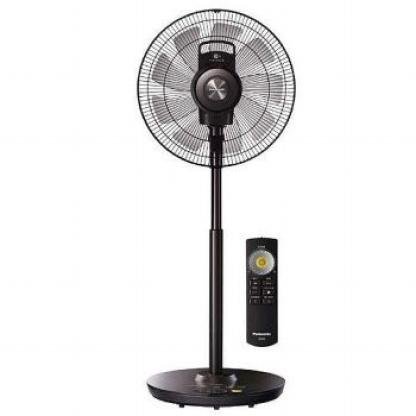fan: (125, 6, 302, 412)
